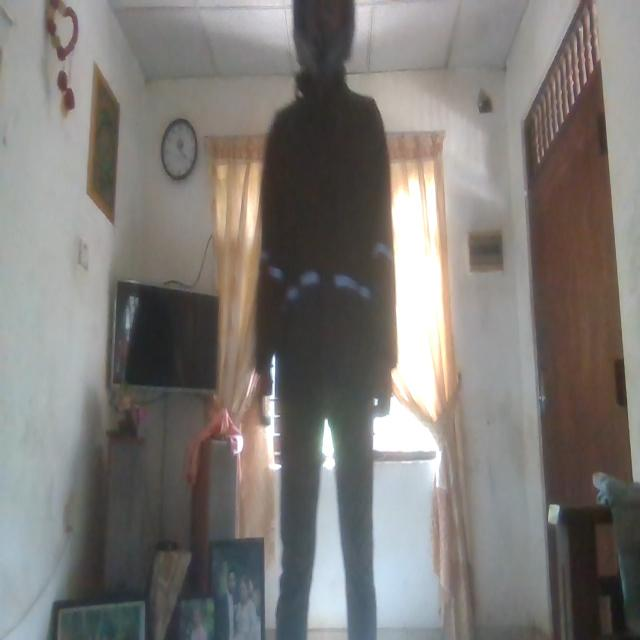Helmet_Wearer: (288, 0, 358, 90)
Jacket_Wearer: (255, 84, 399, 414)
Person: (238, 0, 400, 640)
